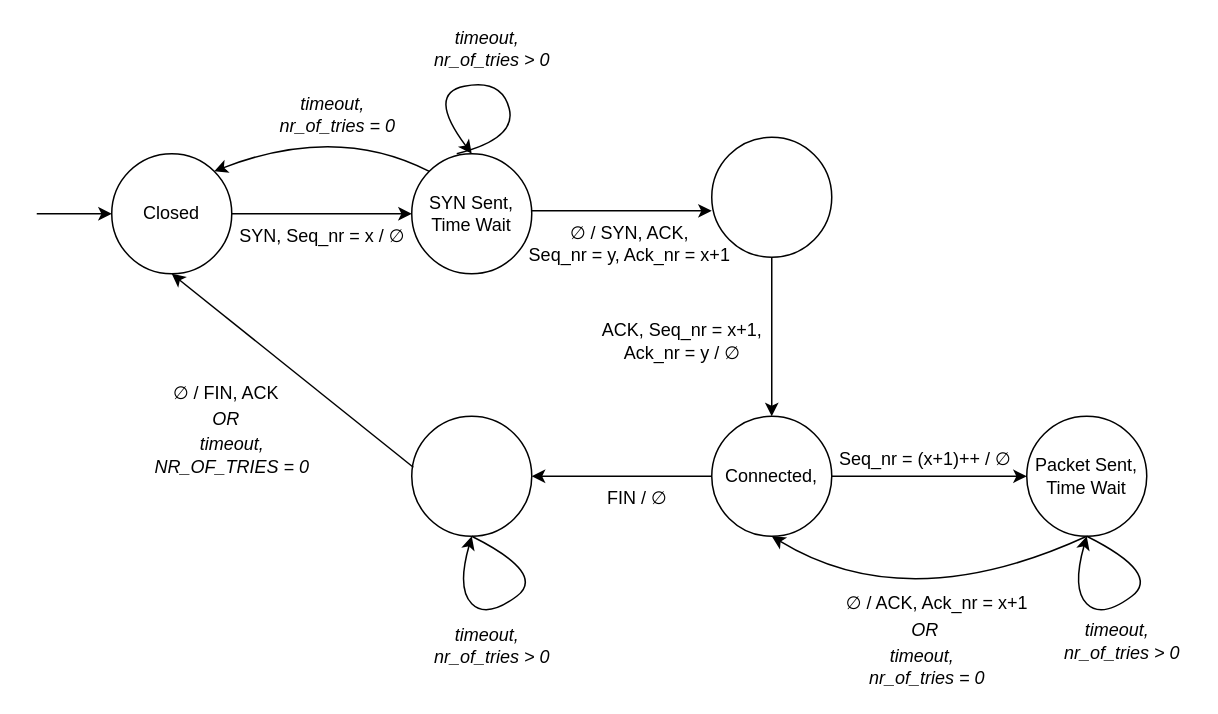
This 1218x714 diagram has some shape labels left out. Each missing label, with the box of its shape:
FIN Sent, Time Wait: (410, 415, 532, 536)
SYN ACK Received: (710, 136, 832, 257)
